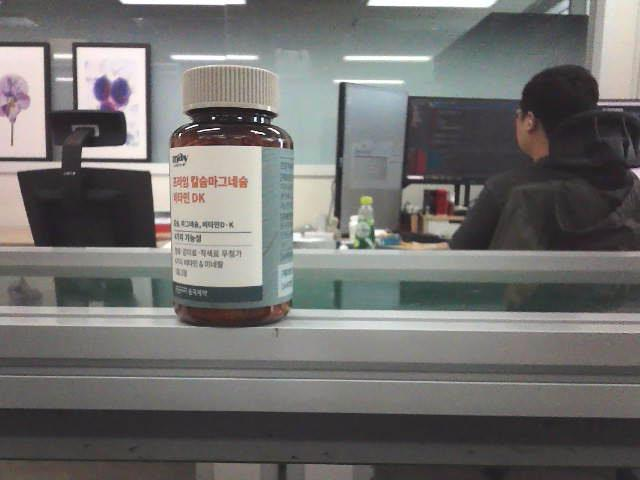labeled: (164, 58, 302, 332)
